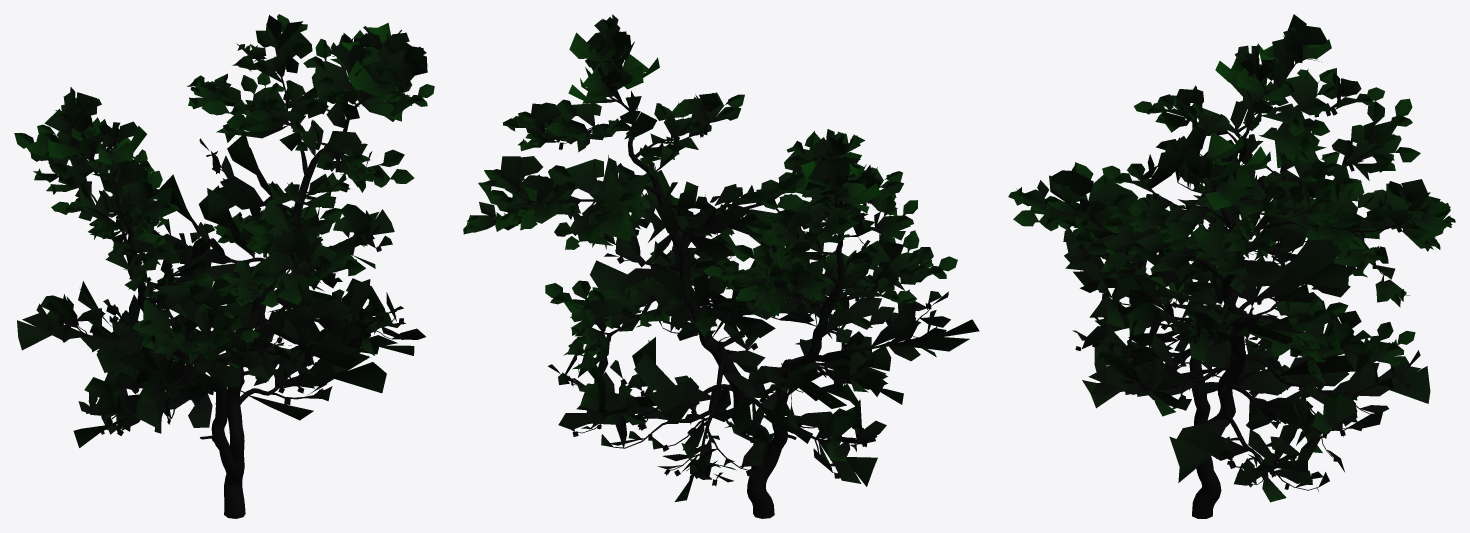
Rendered from Pine_beach_medium_02.fbx.
3 renders of one model, left to right at view 1: azimuth 30°, elevation 25°; view 2: azimuth 150°, elevation 25°; view 3: azimuth 270°, elevation 25°, orthographic. The views are drawn at different scales.
Parts seen in each view (by area): view 1: pine_beach_medium_02_LOD0; view 2: pine_beach_medium_02_LOD0; view 3: pine_beach_medium_02_LOD0.
Boxes of the visible parts, box(x1,y1,x2,y2) form: pine_beach_medium_02_LOD0: box(14, 14, 434, 518); pine_beach_medium_02_LOD0: box(463, 14, 979, 518); pine_beach_medium_02_LOD0: box(1008, 14, 1455, 518).
Size of what is drawn, in the model's own units: 422 by 455 by 392.
